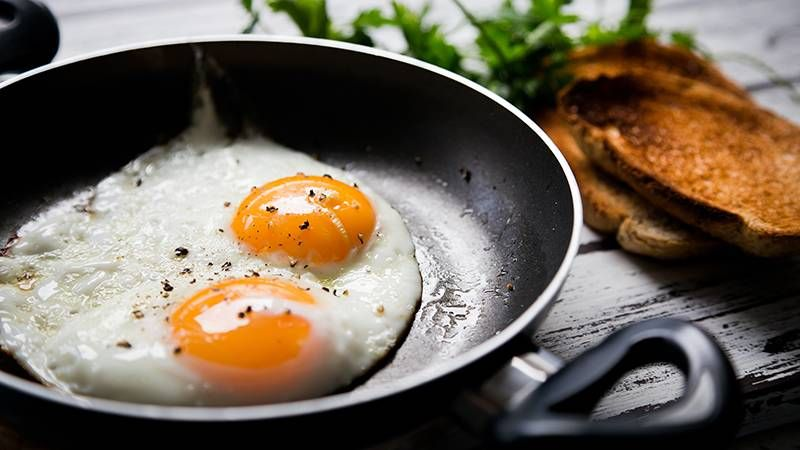fried egg: (7, 121, 438, 397)
slice of bread: (524, 27, 800, 262)
